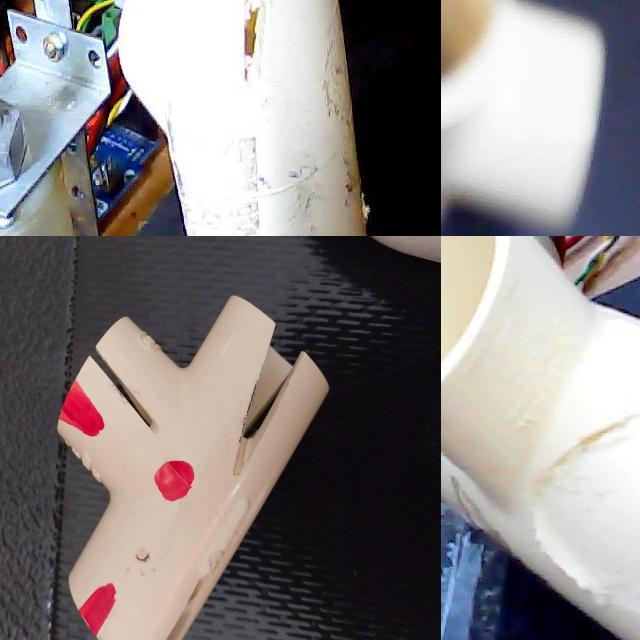Defective: (527, 377, 640, 604), (312, 0, 380, 236), (449, 466, 566, 576), (0, 460, 72, 624), (219, 0, 291, 132), (25, 426, 83, 500), (20, 389, 66, 456), (0, 608, 93, 640), (18, 379, 56, 431), (26, 376, 58, 412)
T Joint: (441, 236, 640, 640), (118, 0, 369, 236), (0, 371, 123, 640)
